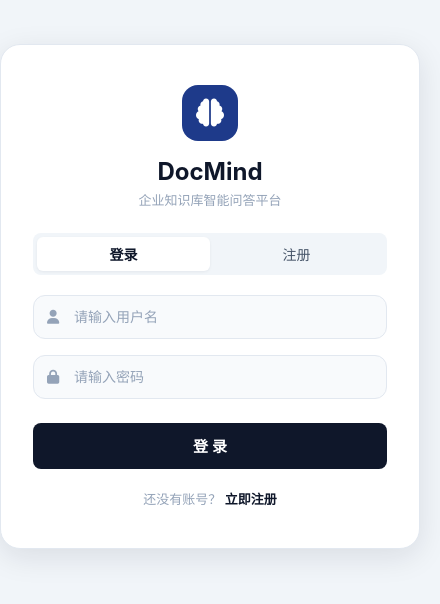
LoginPage › 密码过短提交显示错误
Type "validuser" into the field with placeholder "请输入用户名" at point(210, 316), box [33, 294, 387, 338]
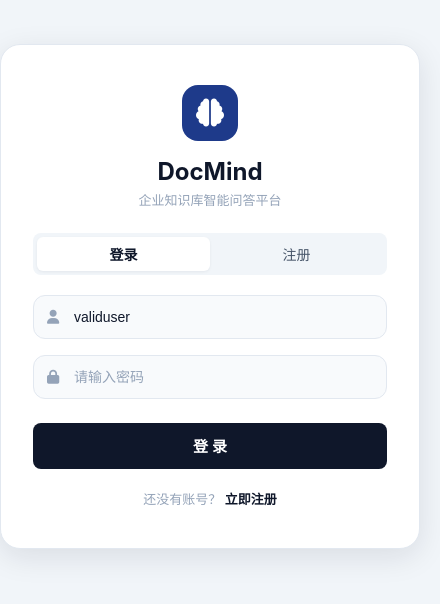
Type "123" into the password field with placeholder "请输入密码" at point(210, 376), box [33, 354, 387, 398]
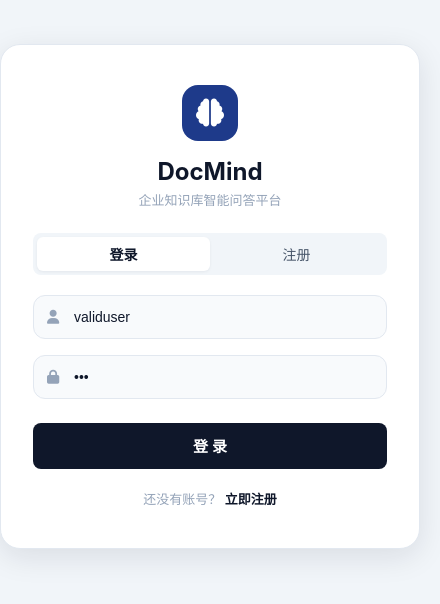
Submit the form, box [33, 294, 387, 468]
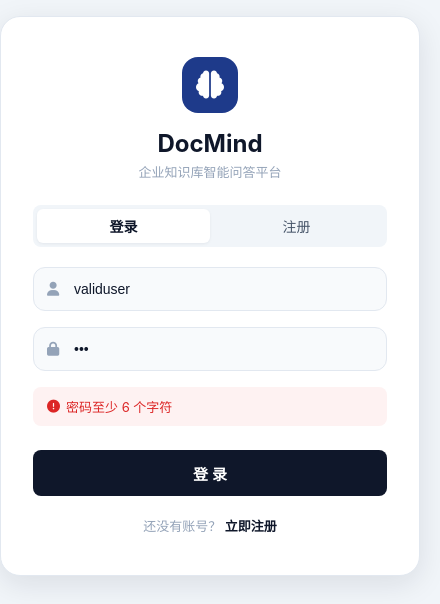
Expected: the element with class "error-msg" reads "密码至少 6 个字符", [66, 399, 172, 415]
